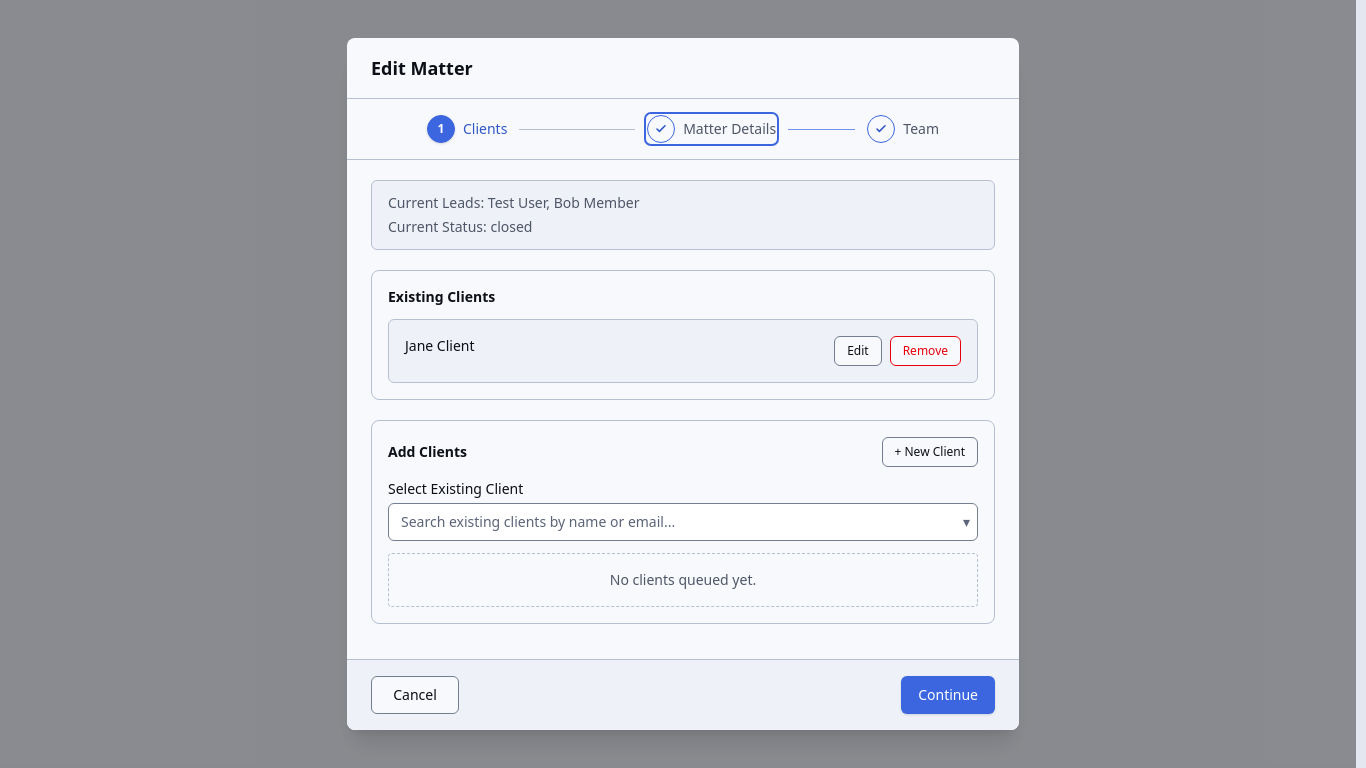
Test: confirming an existing client's removal › keeps the client attached when removal is cancelled
Expected: the heading "Jane Client" is shown, x1=405 y1=336 x2=474 y2=355
Click the button "Remove": (925, 351) x1=890 y1=336 x2=961 y2=366
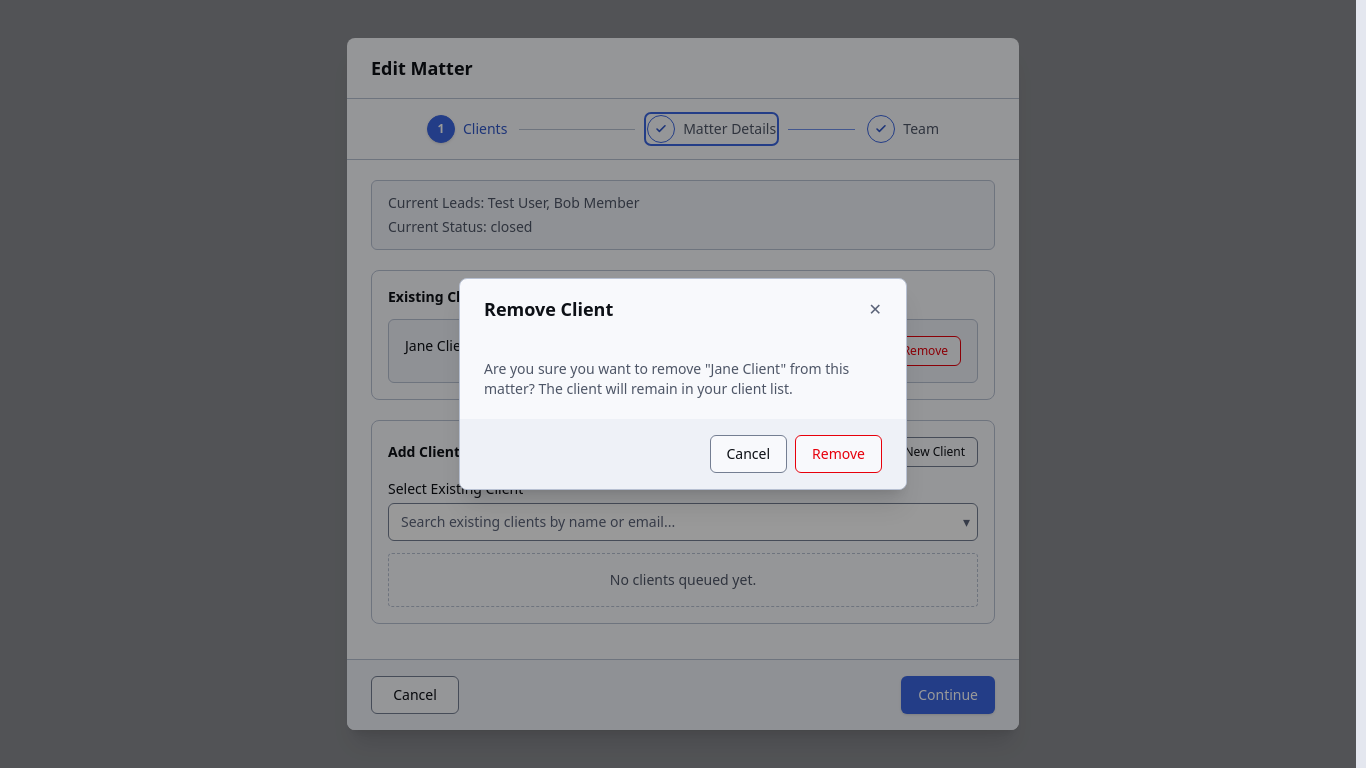
Click the button "Cancel": (748, 454) x1=710 y1=435 x2=787 y2=473
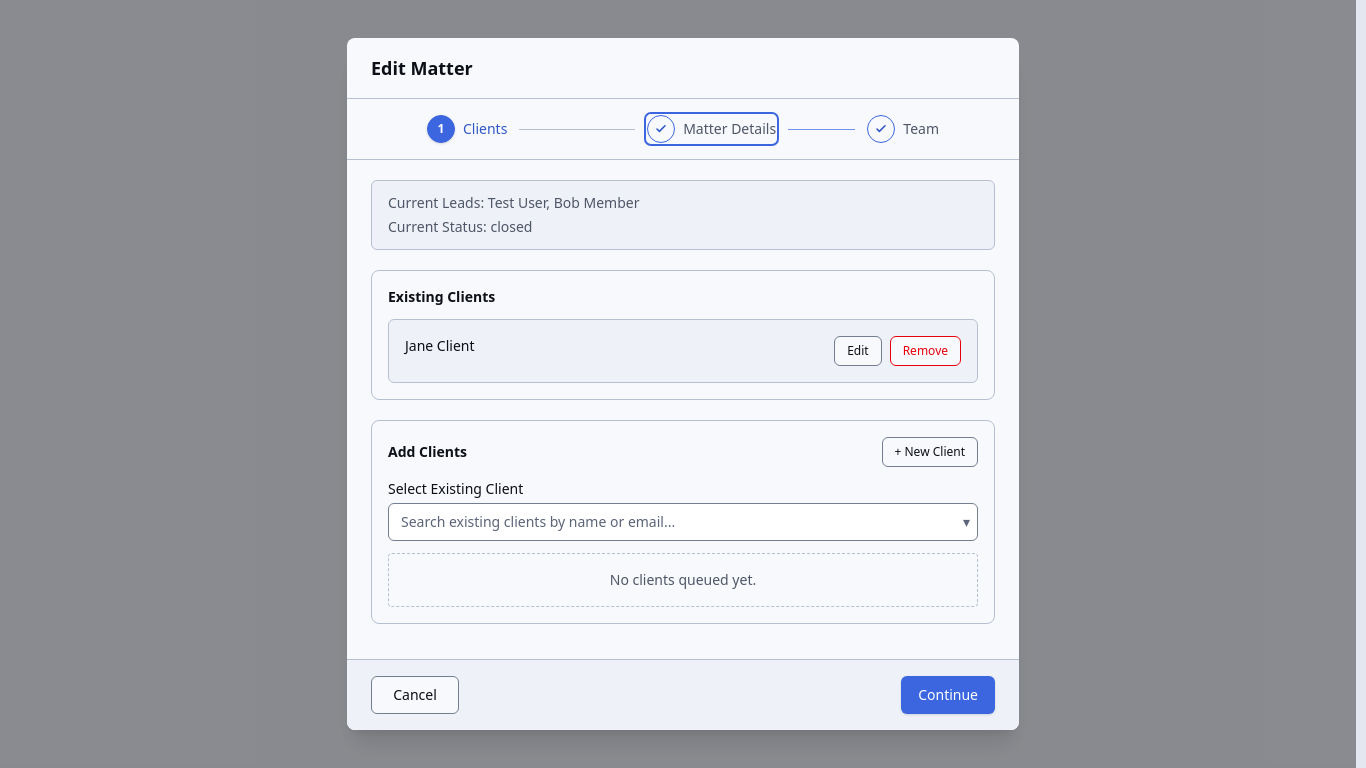
Expected: the heading "Jane Client" is shown, x1=405 y1=336 x2=474 y2=355
Expected: the heading "Remove Client" is gone
